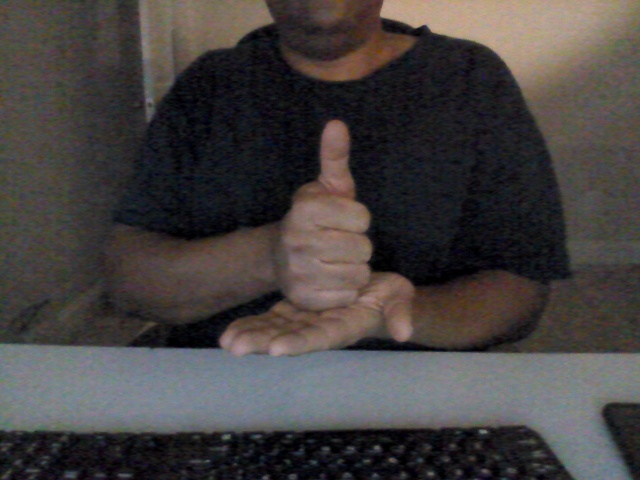help: (216, 113, 425, 361)
